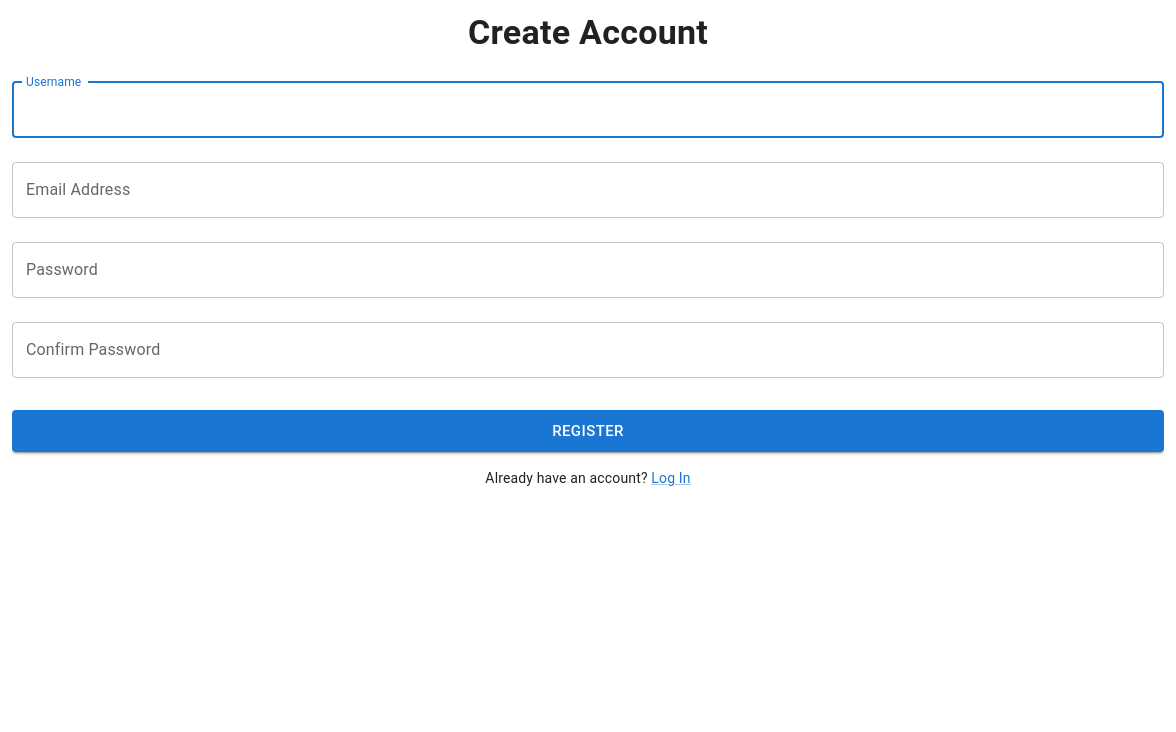
Test case: RegisterForm › shows password mismatch error
Step 1. Type "testuser" into the field labelled "Username" → point(588, 110), box x1=12 y1=82 x2=1164 y2=138
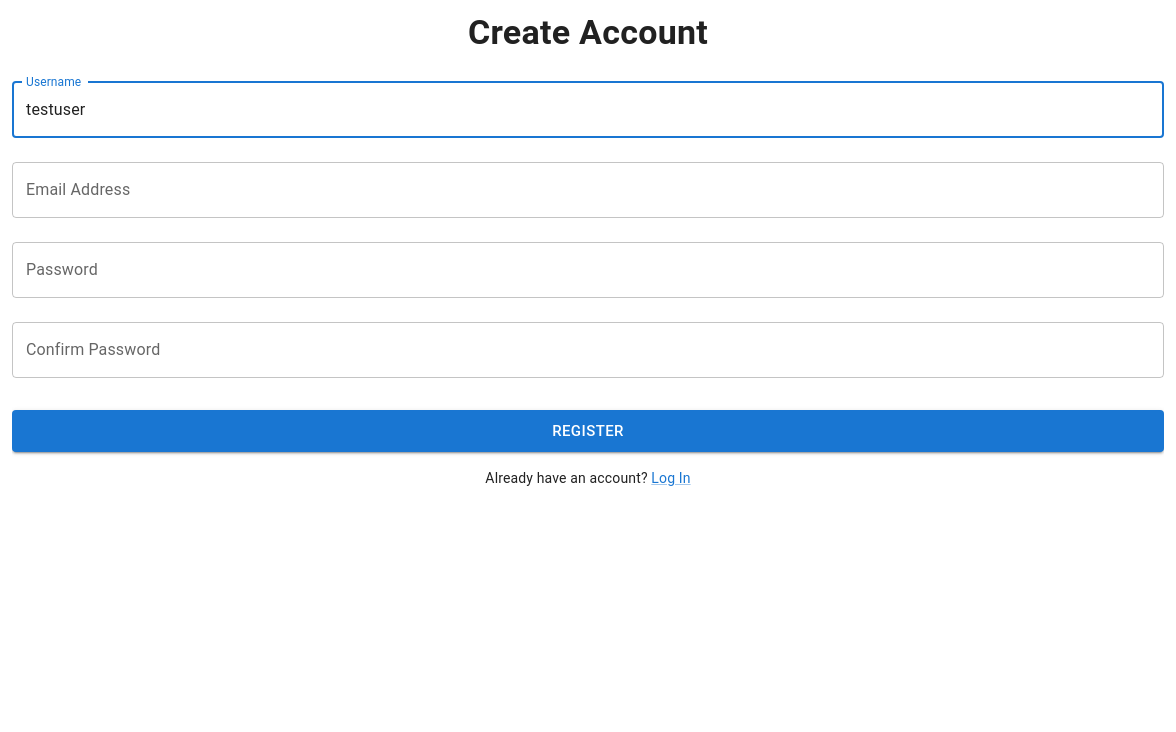
Step 2. Type "test@example.com" into the field labelled "Email Address" → point(588, 190), box x1=12 y1=162 x2=1164 y2=218
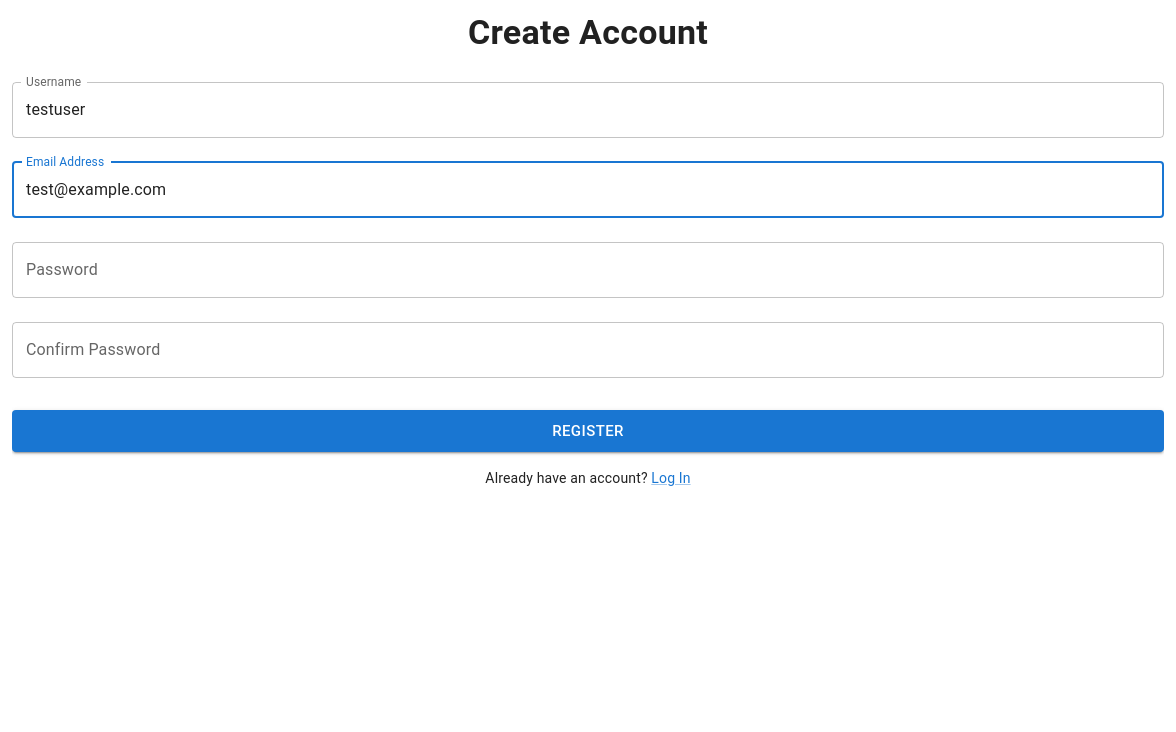
Step 3. Type "Password1" into the password field labelled "Password" → point(588, 270), box x1=12 y1=242 x2=1164 y2=298
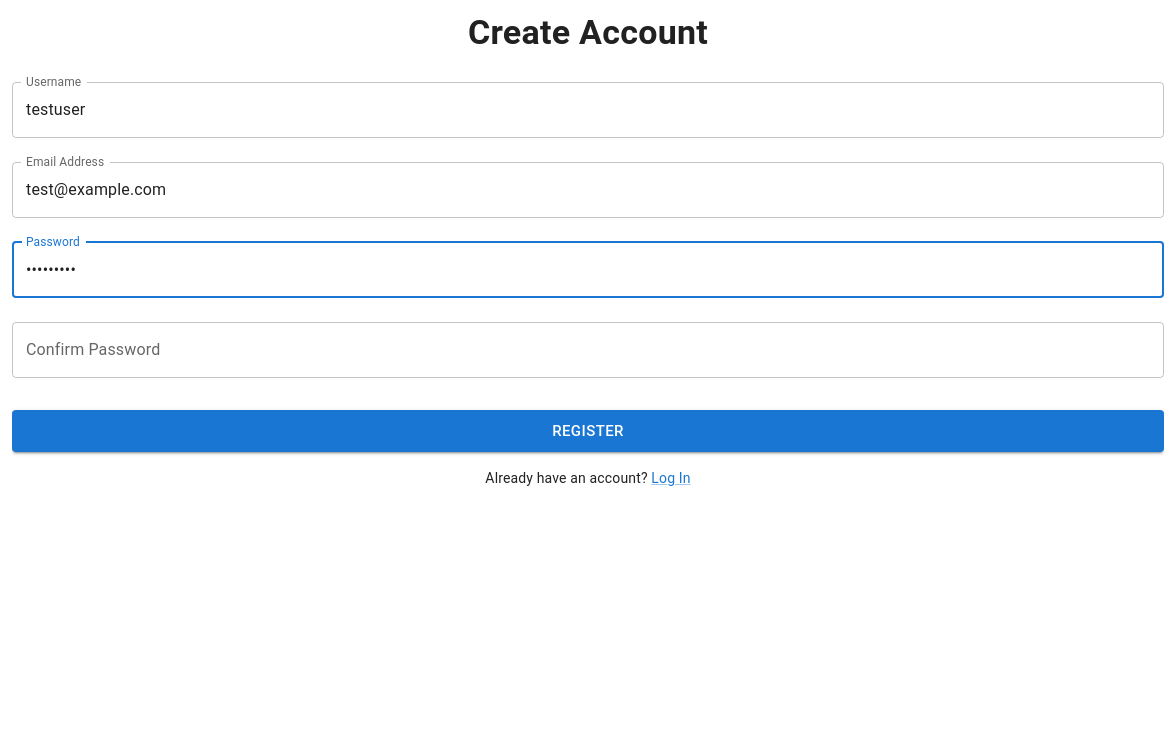
Step 4. Type "Password2" into the password field labelled "Confirm Password" → point(588, 350), box x1=12 y1=322 x2=1164 y2=378
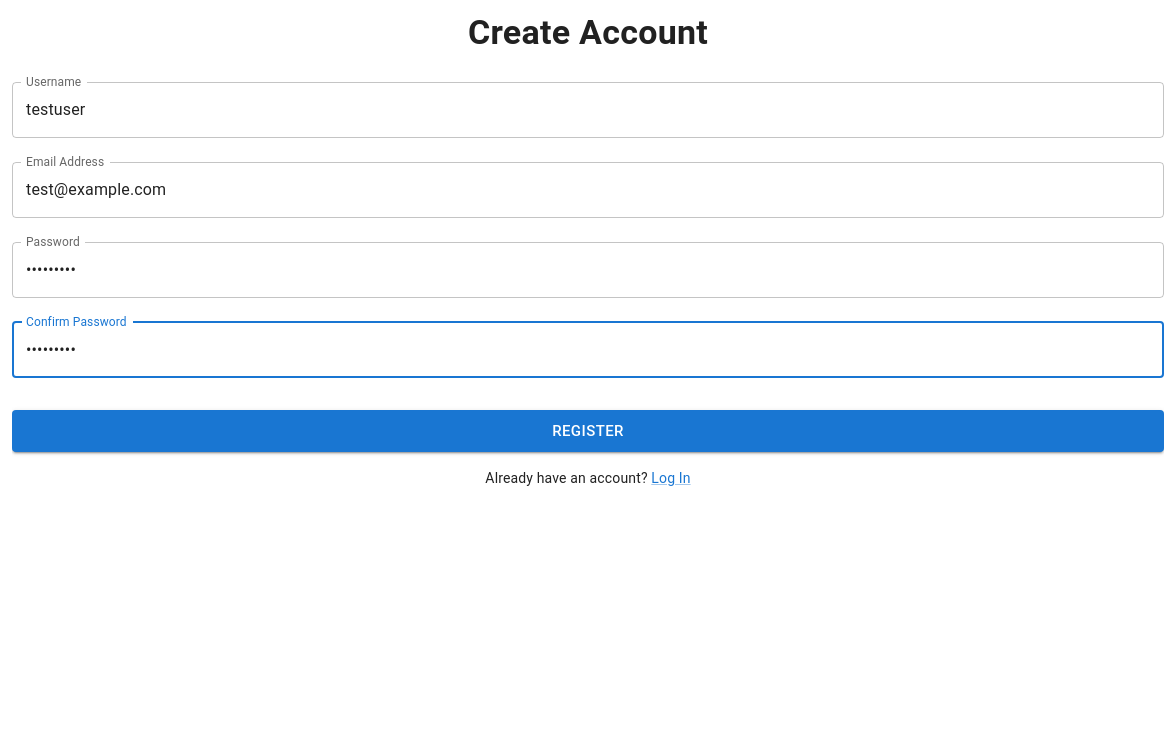
Step 5. Click the button "Register" → point(588, 431), box x1=12 y1=410 x2=1164 y2=452
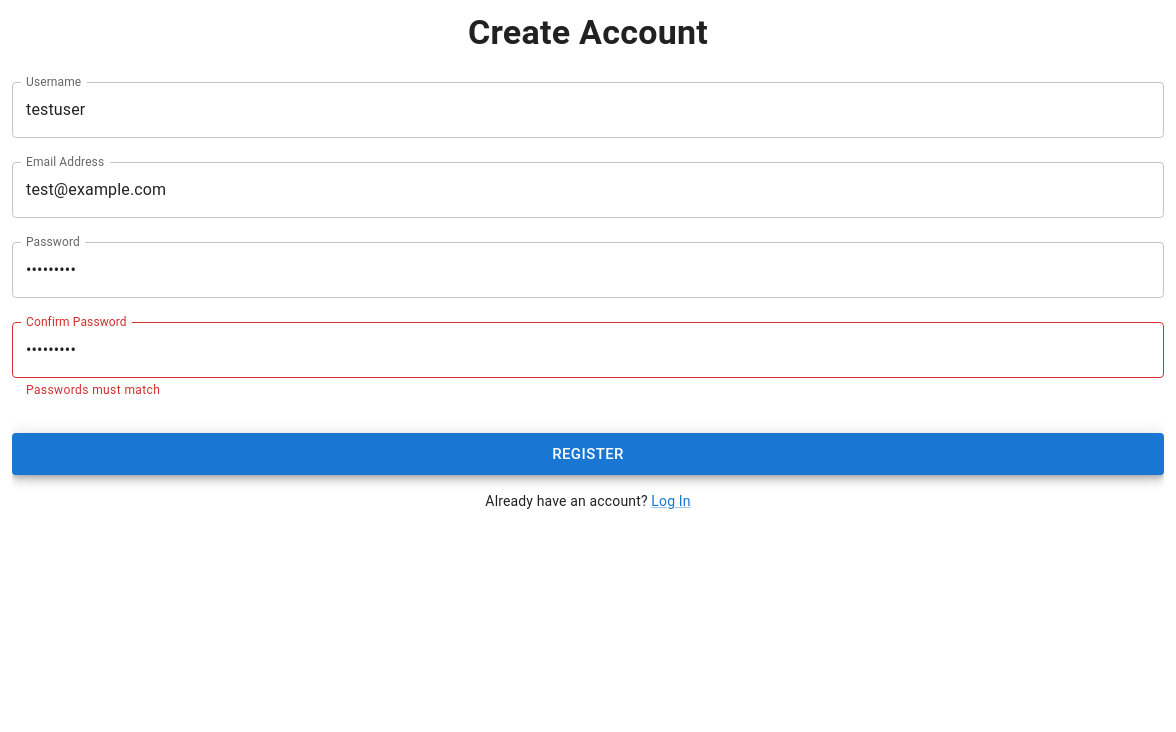
Check: the text "Passwords must match" is shown, box x1=26 y1=383 x2=160 y2=397
